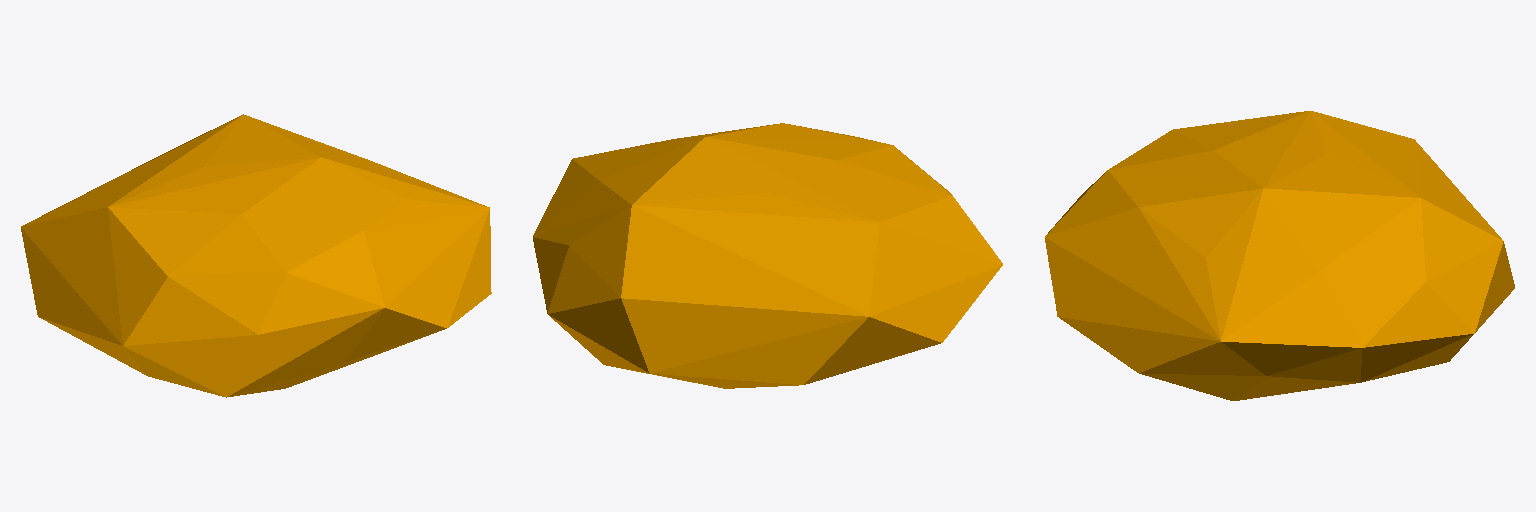
URDF robot description (ic2920):
<?xml version="1.0"?>
<robot name="ic2920">
  <link name="link">
    <contact>
      <lateral_friction value="0.6"/>
    </contact>
    <inertial>
      <mass value = "0.06509338487123555"/>
      <inertia ixx="9.231932757523106e-06" ixy="-4.830734777309682e-22" ixz="-5.474832747617639e-22" iyy="9.556458450263161e-06" iyz="3.587826975231045e-22" izz="1.5417174056279804e-05" />
    </inertial>
    <visual name="visual">
      <geometry>
        <mesh filename="ic2920.obj"/>
      </geometry>
    </visual>
    <collision name="collision">
      <geometry>
        <mesh filename="ic2920.obj"/>
      </geometry>
    </collision>
  </link>
</robot>

--- Facts derived from the render (not from the file) ---
Views: 3 orthographic renders of the robot side by side, from view 1: azimuth 30°, elevation 25°; view 2: azimuth 150°, elevation 25°; view 3: azimuth 270°, elevation 25°.
Model ic2920 with 1 links and 0 joints (none), rooted at link, posed all joints at 0.
Visible links, largest first — view 1: link; view 2: link; view 3: link.
Link boxes in pixels (x1,y1,x2,y2): link: [21, 114, 491, 397]; link: [533, 123, 1002, 388]; link: [1045, 111, 1514, 400].
Bounding box of the posed robot: 0.0528 × 0.0502 × 0.0247 m (x, y, z).
1 mesh visuals loaded from 1 distinct referenced files (1 OBJ).
